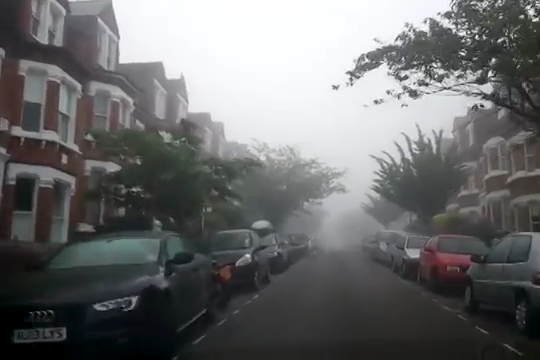car: (1, 230, 224, 360), (460, 228, 540, 329), (416, 232, 496, 297), (199, 231, 272, 291), (385, 230, 436, 280), (242, 228, 292, 275), (368, 228, 409, 264), (283, 229, 311, 258)
